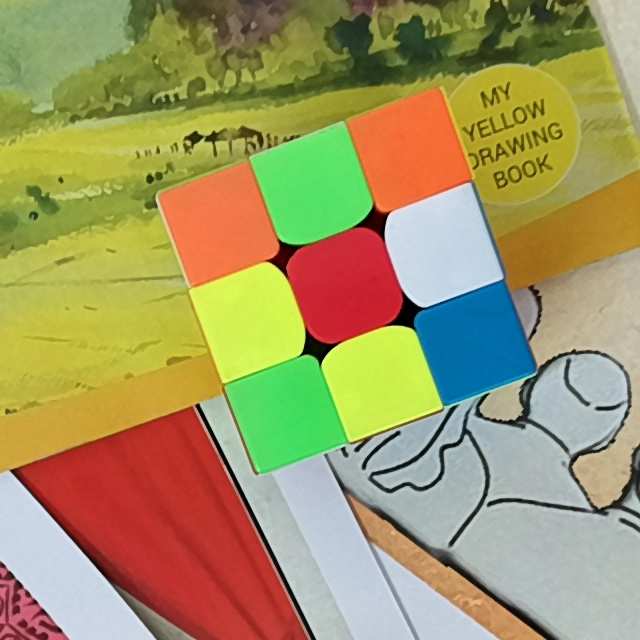tile: (308, 247, 387, 322), (371, 111, 449, 186), (279, 148, 353, 223), (438, 306, 512, 380), (212, 284, 286, 356), (408, 208, 479, 282), (184, 187, 256, 258), (344, 345, 418, 414), (252, 376, 322, 445)
